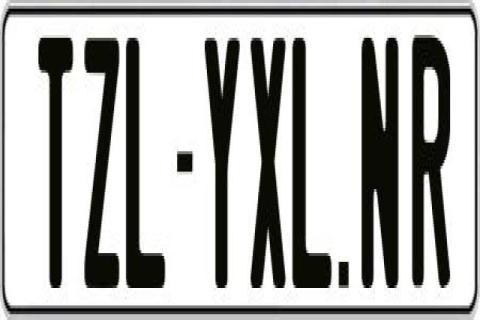L: (291, 32, 336, 282), (126, 29, 167, 291)
N: (359, 29, 397, 285)
R: (413, 26, 454, 291)
T: (38, 29, 78, 297)
X: (249, 38, 287, 294)
Y: (202, 35, 237, 299)
Z: (84, 32, 124, 291)
